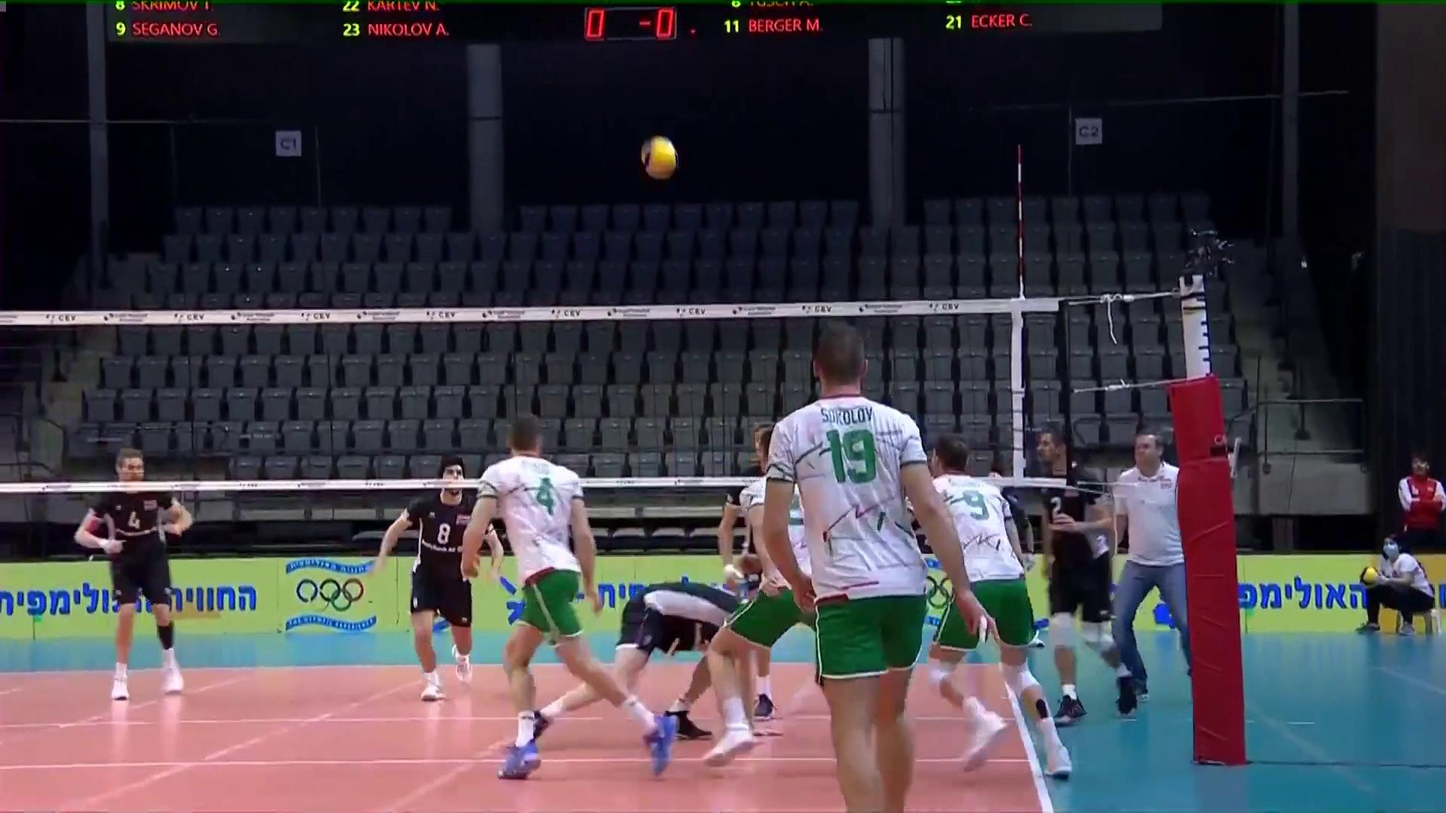ball: (640, 136, 678, 181)
